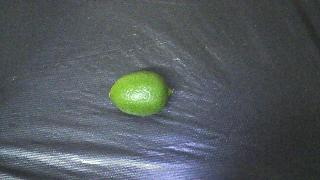LOCAL: (109, 71, 173, 116)
